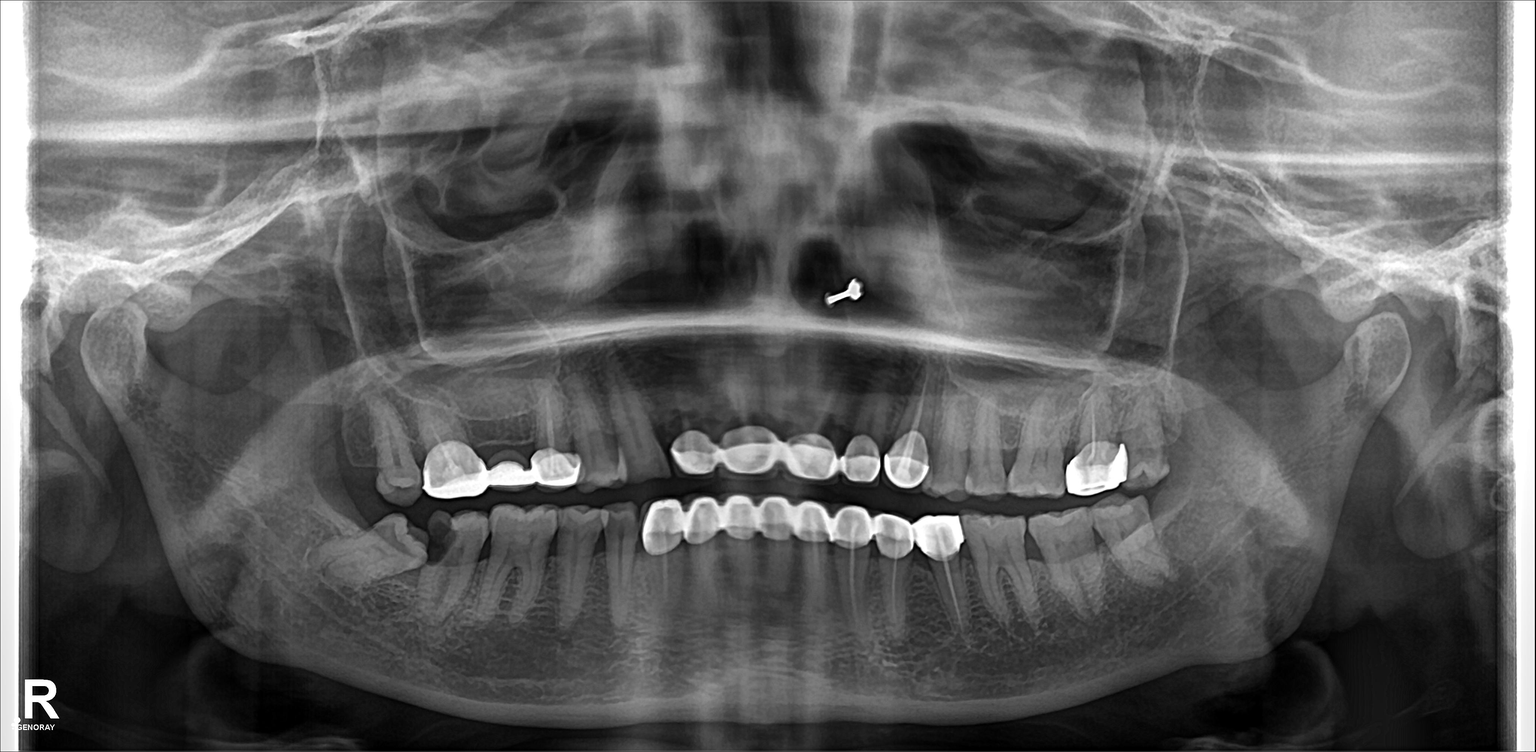Dental Caries: (425, 516, 454, 565)
Endodontically Treated Tooth: (415, 383, 480, 496), (836, 501, 885, 646), (777, 361, 836, 478), (715, 363, 778, 472), (924, 503, 965, 642), (667, 367, 718, 475), (879, 361, 925, 480), (1073, 389, 1125, 493), (644, 504, 690, 621), (531, 374, 575, 481), (840, 359, 879, 477), (879, 516, 913, 640), (482, 389, 524, 489), (803, 504, 833, 624), (397, 530, 398, 536)
Impacted Third Molar: (307, 520, 428, 585)
Missing Tooth: (335, 406, 383, 503)
